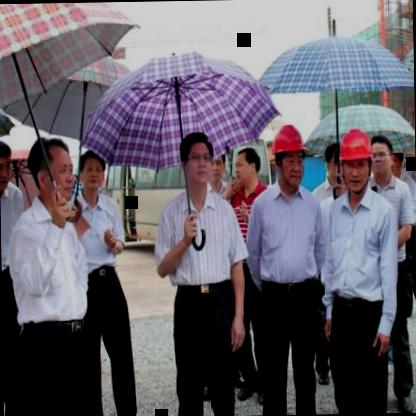head: (29, 135, 74, 206), (176, 128, 214, 190), (75, 145, 108, 200), (233, 145, 262, 194), (321, 140, 348, 190), (370, 134, 394, 184), (209, 146, 230, 188), (0, 138, 15, 196)
helmet: (270, 121, 310, 192), (336, 126, 376, 196)
